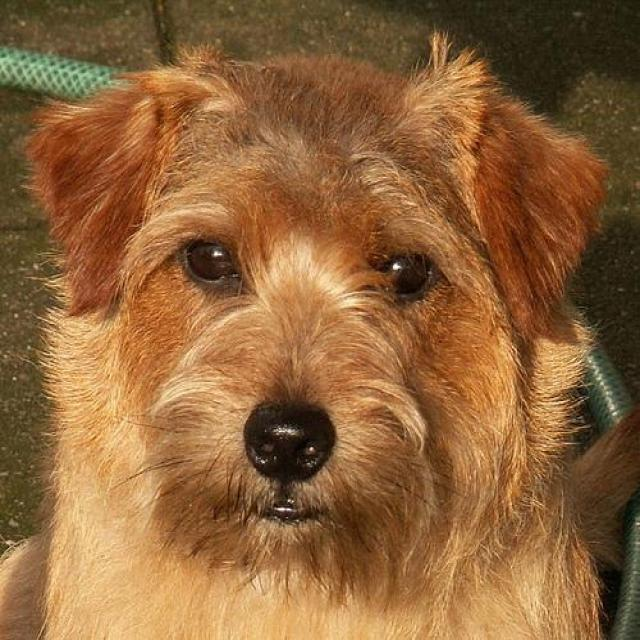dogs: (64, 35, 604, 640)
